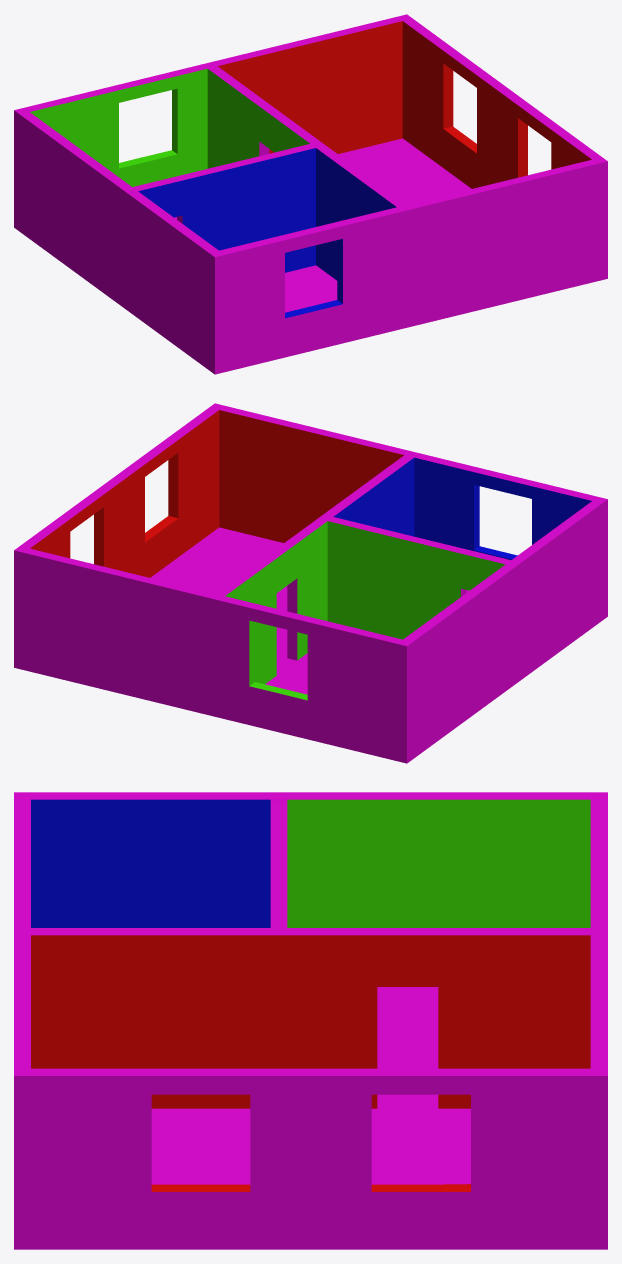
The model's file is WALLS_ROOF_UNWRAPPED.fbx.
3 views of the same model, one above another, from view 1: azimuth 30°, elevation 25°; view 2: azimuth 150°, elevation 25°; view 3: azimuth 270°, elevation 25° (orthographic). The views are drawn at different scales.
Visible parts, largest first — view 1: Plane.025; view 2: Plane.025; view 3: Plane.025.
Boxes of the visible parts, x1,y1,x2,y2 form: Plane.025: [14, 14, 607, 374]; Plane.025: [14, 403, 607, 763]; Plane.025: [14, 792, 607, 1249].
Size of the model in its own units: 881 by 252 by 780.
